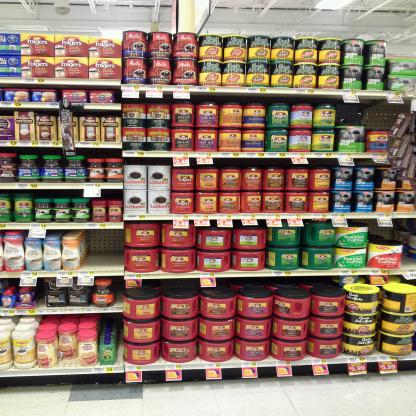Void: (340, 106, 388, 124), (93, 235, 112, 267), (375, 230, 394, 242), (38, 284, 48, 304), (106, 319, 115, 324)
